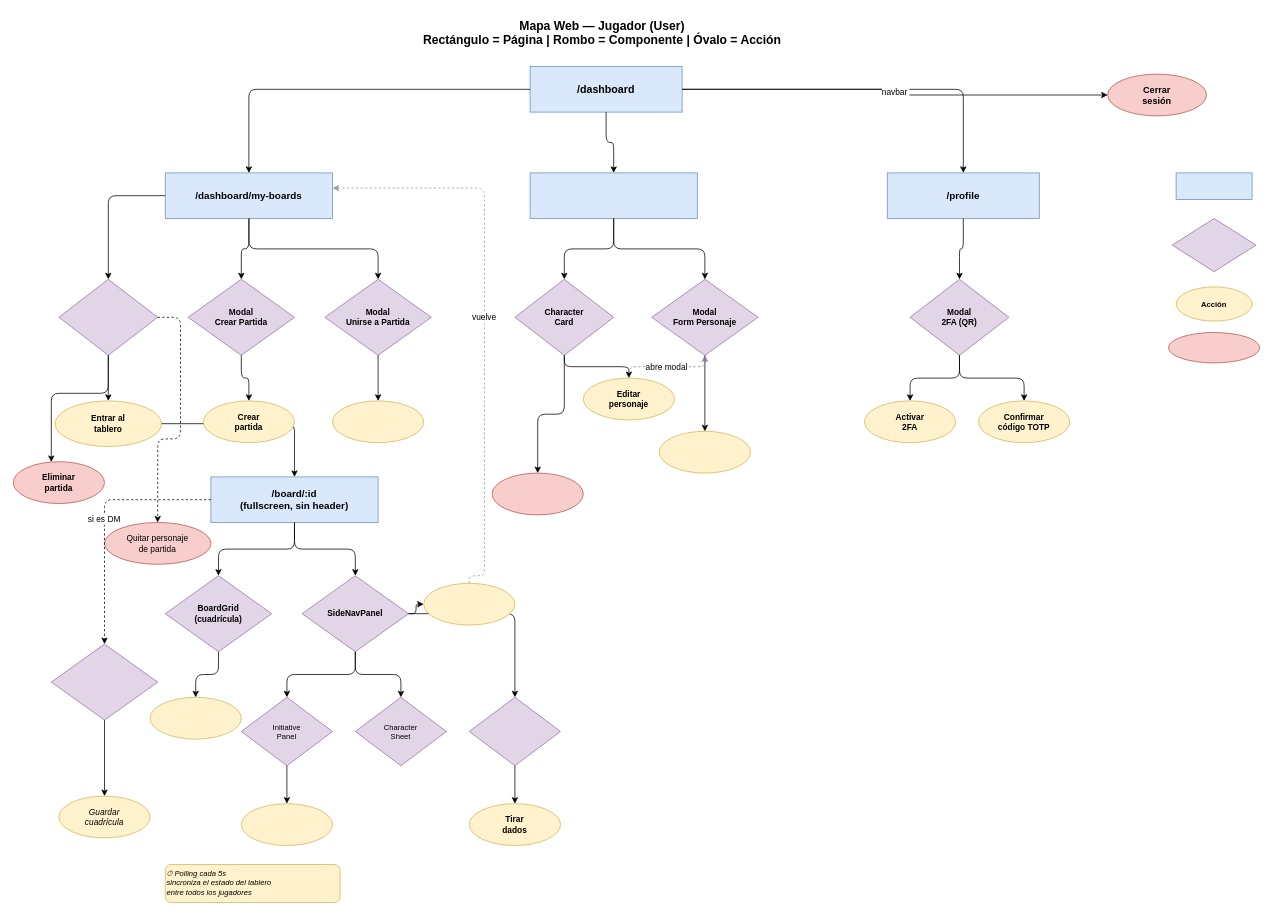
Image size: 1273x916. Some labels were removed from this diagram. The centre of each missing label's shape, as x and y in pixels:
"/dashboard/my-characters" belongs at pixel 613 195.
"Acción destructiva" belongs at pixel 1214 347.
"Avanzar turno" belongs at pixel 286 824.
"BoardCard" belongs at pixel 108 317.
"Componente" belongs at pixel 1214 245.
"Crear personaje" belongs at pixel 704 452.
"Dice Roller" belongs at pixel 514 731.
"Eliminar personaje" belongs at pixel 537 493.
"GridConfig Panel (solo DM)" belongs at pixel 104 681.
"Mover personaje" belongs at pixel 195 718.
"Página" belongs at pixel 1213 186.
"Salir al dashboard" belongs at pixel 469 604.
"Unirse a partida" belongs at pixel 378 421.
